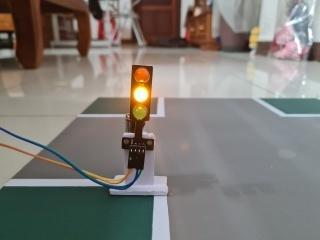yellow: (116, 53, 166, 133)
